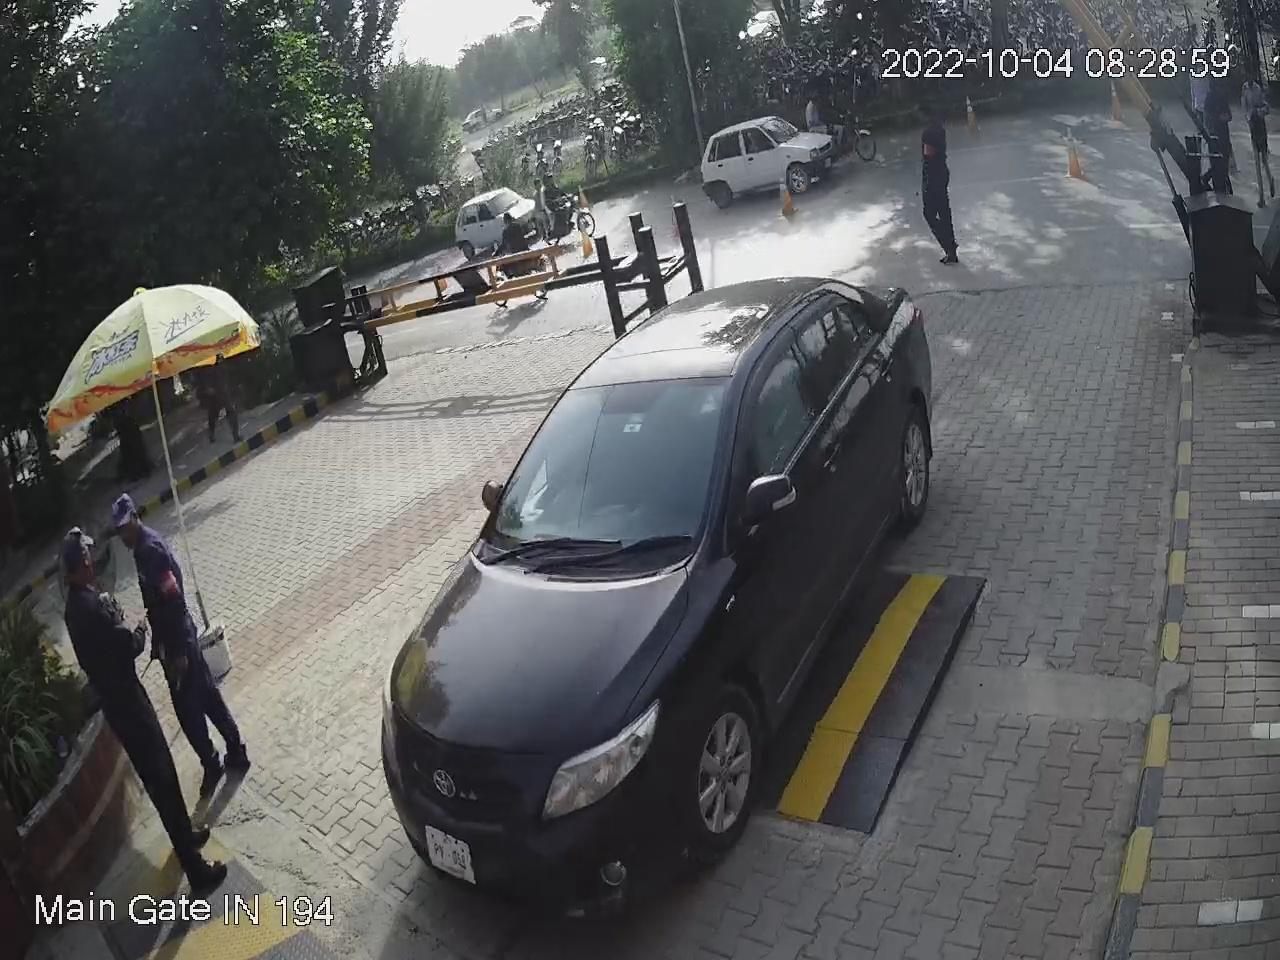windshield: (473, 362, 743, 565)
